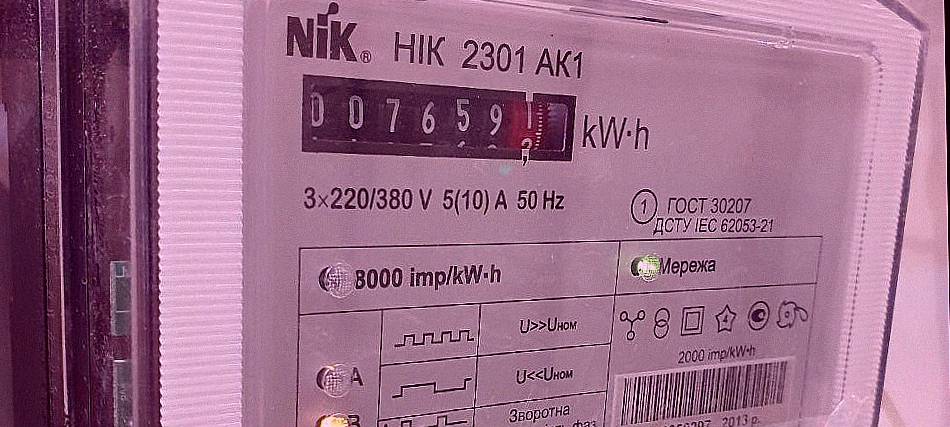0: (343, 90, 368, 131), (304, 88, 328, 129)
1: (520, 99, 538, 132)
5: (452, 95, 473, 134)
6: (417, 97, 439, 136)
7: (382, 94, 402, 135)
9: (486, 101, 504, 138)
screen: (291, 60, 586, 184)
